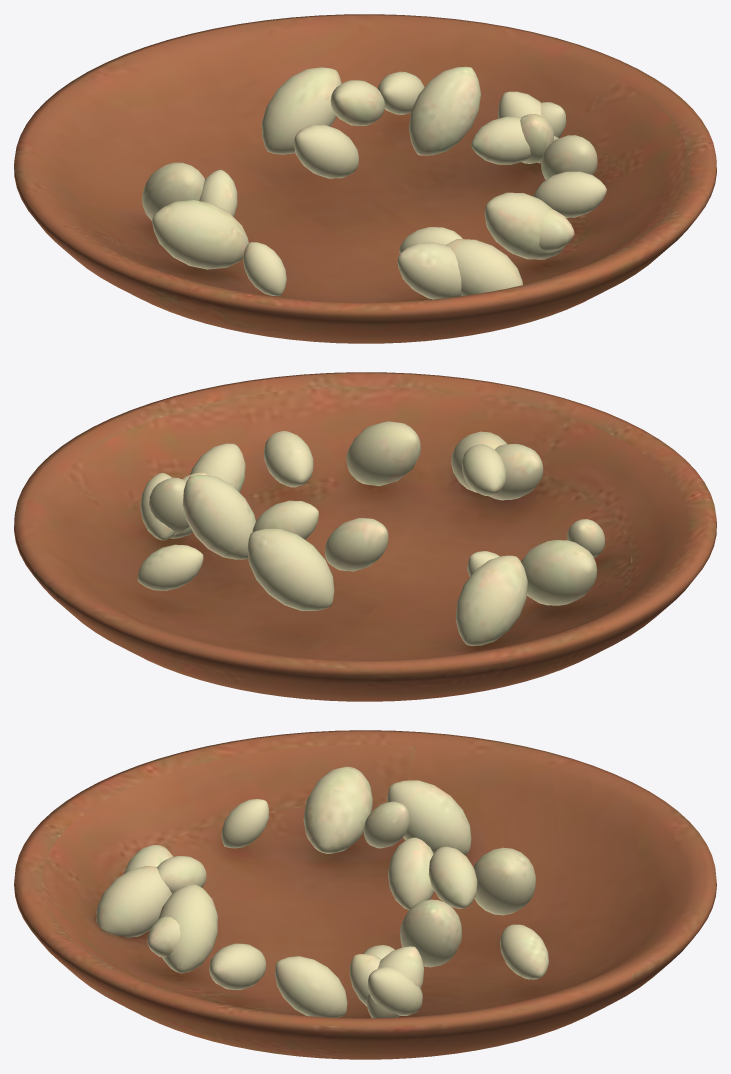
Rendered from mastic.glb.
3 renders of one model, top to bottom at view 1: azimuth 30°, elevation 25°; view 2: azimuth 150°, elevation 25°; view 3: azimuth 270°, elevation 25°, orthographic.
Visible parts, largest first — view 1: mastic; view 2: mastic; view 3: mastic.
Part boxes in pixels (x1,y1,x2,y2): mastic: [14, 14, 716, 343]; mastic: [14, 372, 716, 701]; mastic: [14, 730, 716, 1059].
Bounding box in the file's own units: 0.0901 × 0.0197 × 0.0901.
1 material, 1 textured.
